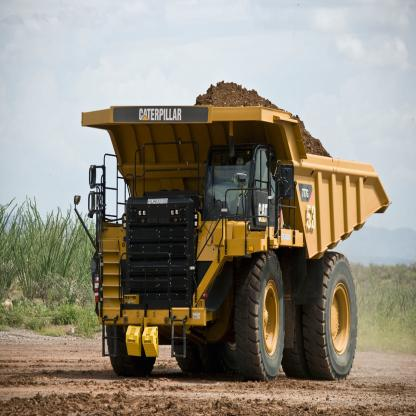dump_truck: (80, 75, 396, 381)
